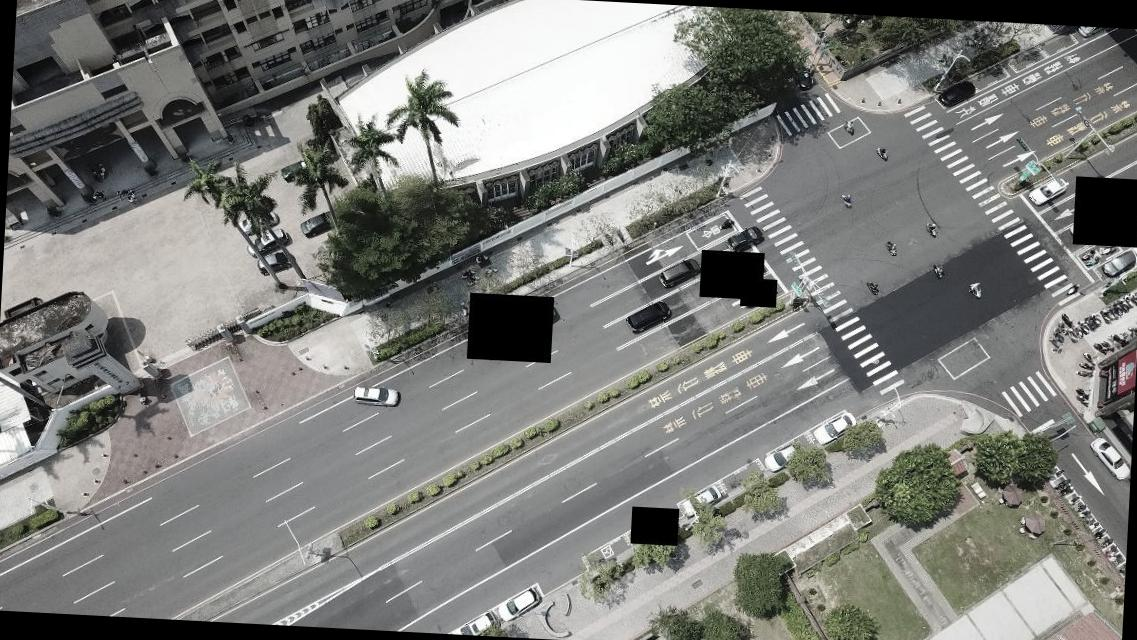vehicle: (1086, 438, 1130, 480), (625, 300, 670, 337), (813, 411, 858, 446), (351, 381, 401, 411), (498, 587, 540, 622), (724, 223, 764, 259), (680, 484, 720, 517), (248, 227, 288, 260), (660, 256, 699, 288), (1028, 177, 1067, 208), (764, 438, 798, 473), (238, 206, 280, 234), (450, 610, 495, 636), (257, 252, 294, 280), (939, 80, 975, 106), (298, 210, 331, 238), (1103, 250, 1135, 278), (281, 156, 310, 181)
